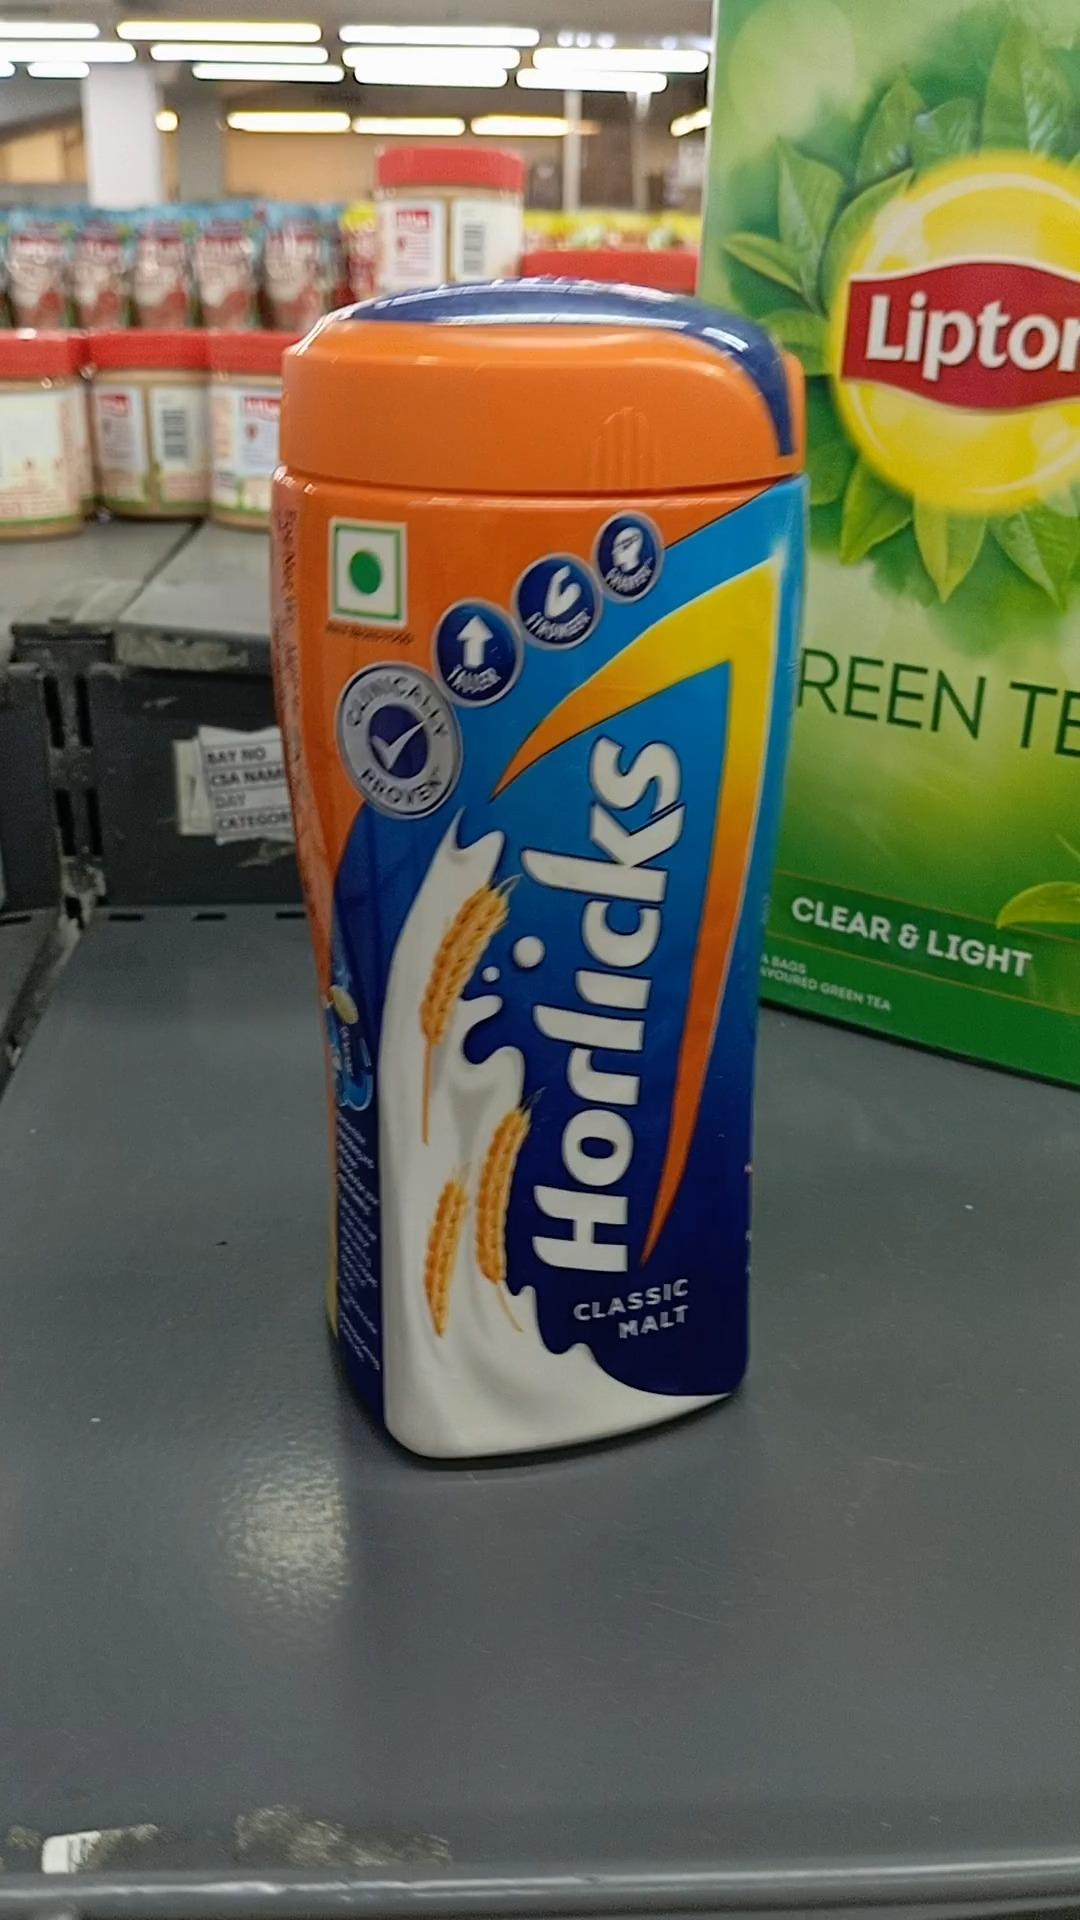HORLICK_CLASSIC_MALT_200_G_JAR: (276, 276, 775, 1464)
